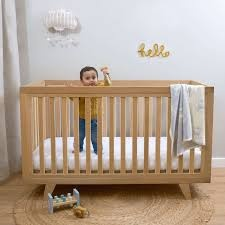baby: (91, 97, 96, 153)
crib: (20, 80, 213, 198)
